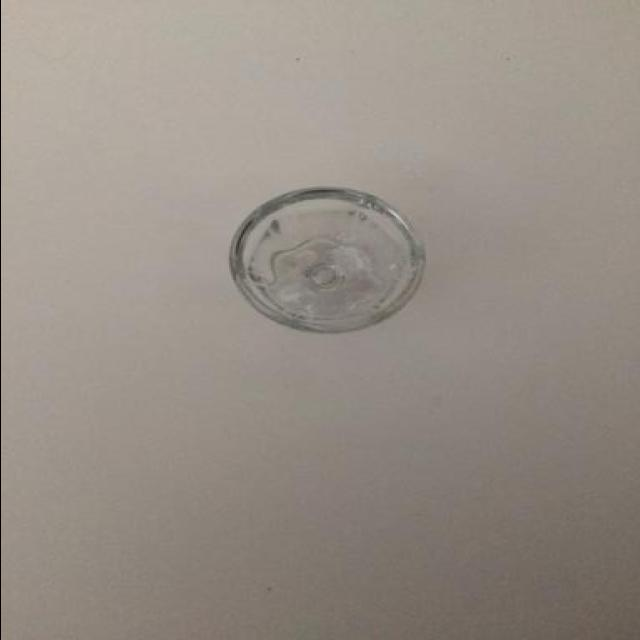glass: (215, 180, 446, 360)
